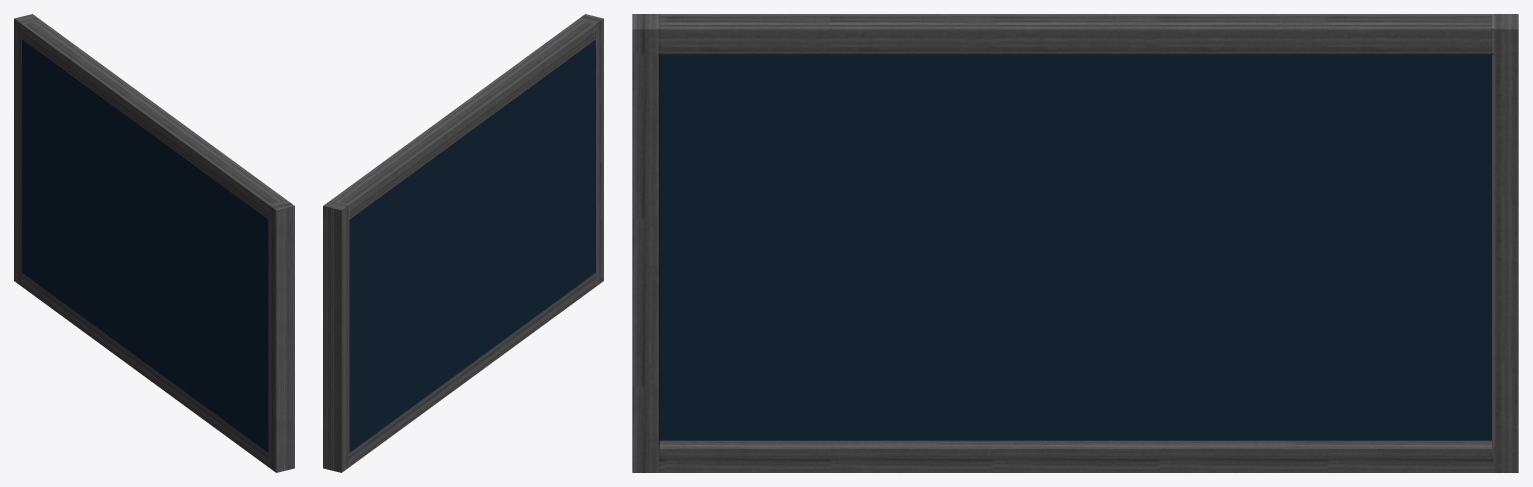
Rendered from auto_window.fbx.
3 views of the same model, side by side, from view 1: azimuth 30°, elevation 25°; view 2: azimuth 150°, elevation 25°; view 3: azimuth 270°, elevation 25° (orthographic). The views are drawn at different scales.
Visible parts, largest first — view 1: window_2; view 2: window_2; view 3: window_2.
Part boxes in pixels (box(x1,y1,x2,y2)): window_2: box(14, 14, 294, 472); window_2: box(323, 14, 603, 472); window_2: box(632, 14, 1518, 472).
Size of the model in its own units: 0.00412 by 0.0559 by 0.1012.
2 materials, 1 textured.
